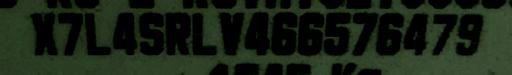letter: (270, 10, 298, 59), (29, 11, 59, 56), (83, 11, 113, 56), (296, 9, 324, 56), (402, 9, 430, 56), (110, 9, 138, 56), (243, 10, 271, 57), (375, 11, 403, 58), (217, 10, 245, 55), (191, 11, 219, 56), (324, 11, 352, 56), (430, 11, 458, 56), (455, 12, 483, 57), (164, 9, 190, 56), (57, 9, 83, 56), (351, 11, 377, 58), (137, 11, 165, 54)
